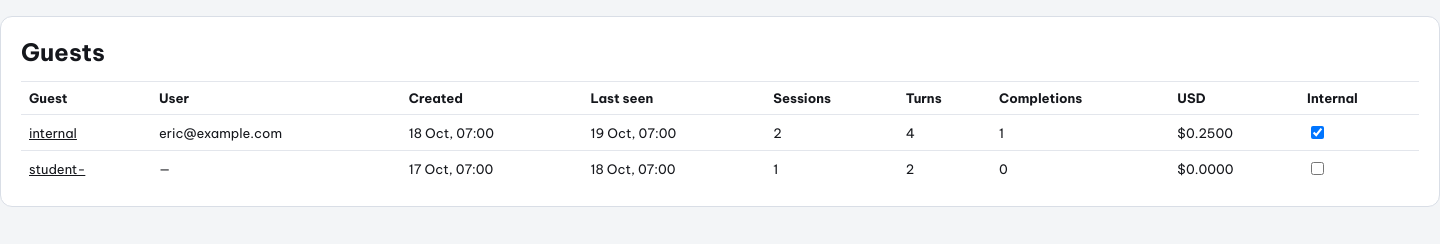
Test: a refresh failure after a successful toggle keeps the optimistic internal flag
Click the checkbox named "Mark internal for student-abcdefgh": x=1318, y=168 [1311,162,1324,175]
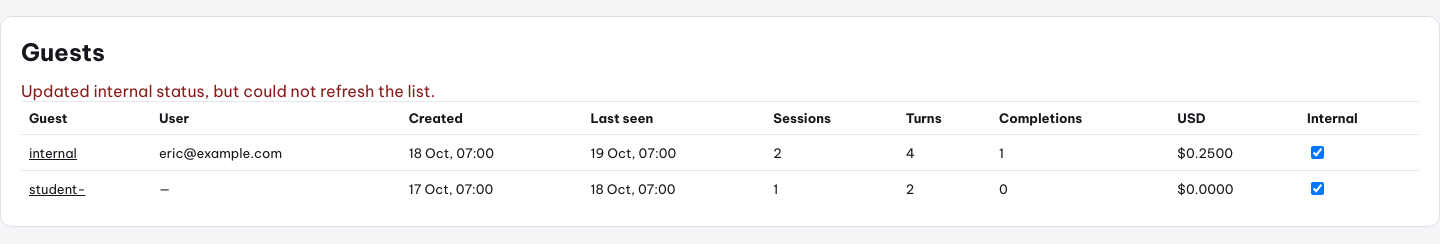
Expected: the checkbox named "Mark internal for student-abcdefgh" is checked, [1311,182,1324,195]
Expected: the text "Updated internal status, but could not refresh the list." is shown, [21,81,435,101]
